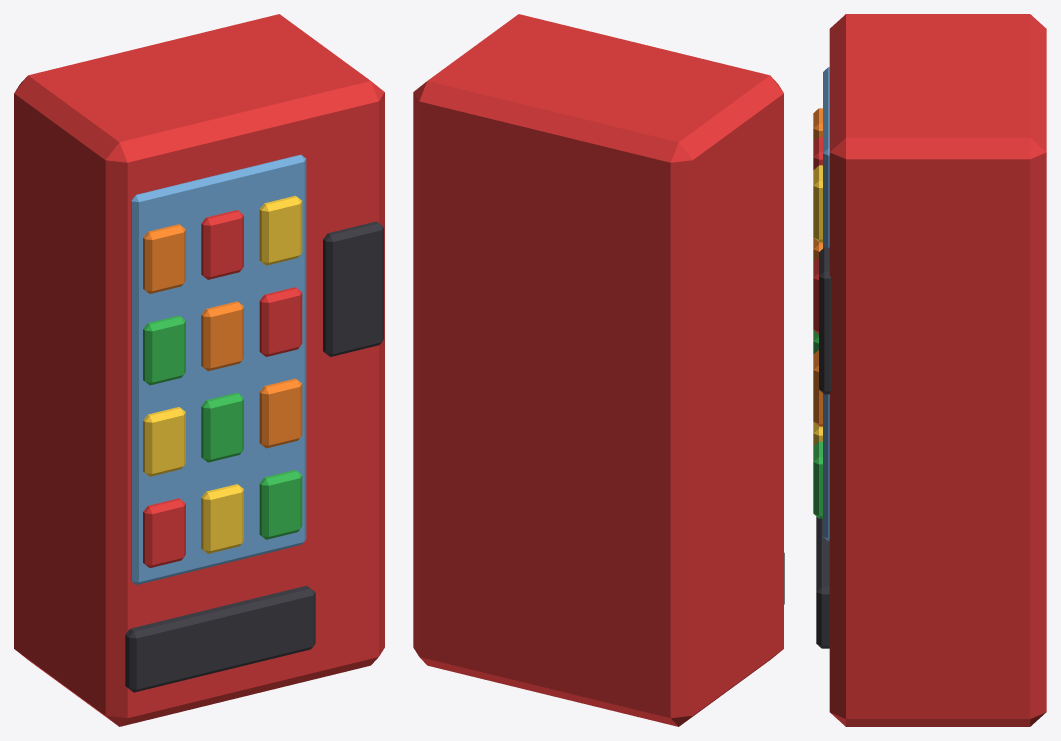
Rendered from SnackMachine.fbx.
3 views of the same model, side by side, from view 1: azimuth 30°, elevation 25°; view 2: azimuth 150°, elevation 25°; view 3: azimuth 270°, elevation 25° (orthographic).
Parts seen in each view (by area): view 1: SnackMachine; view 2: SnackMachine; view 3: SnackMachine.
Part boxes in pixels (bbox=[...]): SnackMachine: bbox=[14, 14, 384, 726]; SnackMachine: bbox=[413, 14, 784, 726]; SnackMachine: bbox=[813, 14, 1046, 726].
Size of the model in its own units: 2.4 by 4.8 by 1.72.
Materials: 1 (1 with a texture image).
